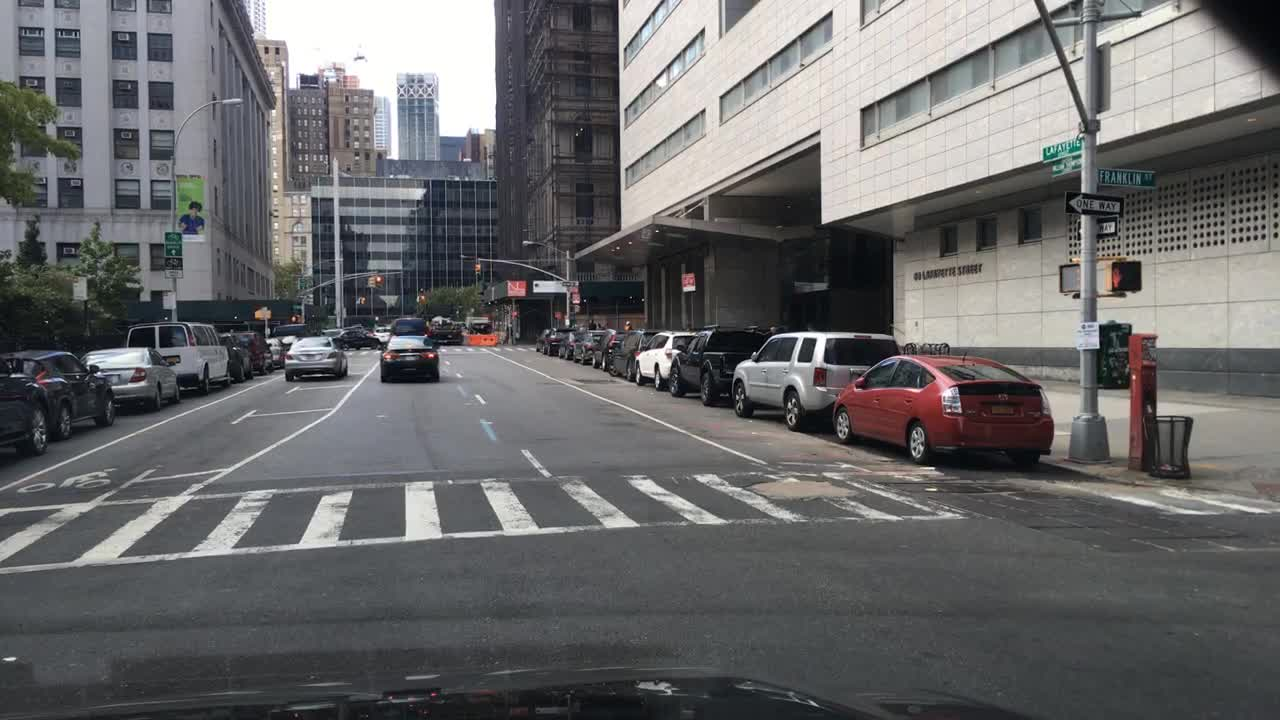car: (832, 354, 1056, 469), (729, 329, 901, 432), (3, 347, 116, 441), (666, 326, 772, 407), (124, 321, 232, 395), (80, 346, 182, 412), (0, 355, 79, 439), (0, 371, 50, 457), (631, 327, 695, 391), (605, 327, 658, 382), (380, 337, 438, 384), (281, 339, 347, 380), (269, 320, 323, 370), (232, 330, 276, 376), (216, 331, 257, 380), (327, 323, 382, 351), (561, 329, 604, 363), (534, 325, 576, 358), (596, 331, 627, 372), (427, 316, 465, 345), (267, 335, 289, 368), (392, 317, 429, 335), (320, 326, 342, 341), (371, 325, 390, 342)
person: (587, 317, 596, 330), (622, 320, 632, 330), (595, 320, 603, 331)
traffic light: (1109, 258, 1142, 295), (1058, 256, 1082, 298), (253, 309, 272, 320), (473, 260, 481, 275), (366, 275, 374, 288), (290, 315, 302, 323), (374, 275, 380, 287), (419, 294, 425, 304), (359, 296, 364, 306)
traffic sign: (1087, 39, 1111, 113), (1063, 189, 1126, 217), (1091, 164, 1160, 189), (1041, 136, 1085, 163), (1074, 322, 1100, 349), (1089, 216, 1122, 237), (1050, 155, 1081, 177), (162, 230, 185, 257), (162, 255, 183, 279), (72, 275, 88, 302), (161, 291, 178, 310), (681, 271, 694, 294), (560, 279, 583, 286), (572, 292, 581, 304), (564, 312, 571, 325), (566, 286, 580, 292), (554, 310, 562, 320), (293, 303, 304, 308)
truck: (463, 316, 495, 333)
